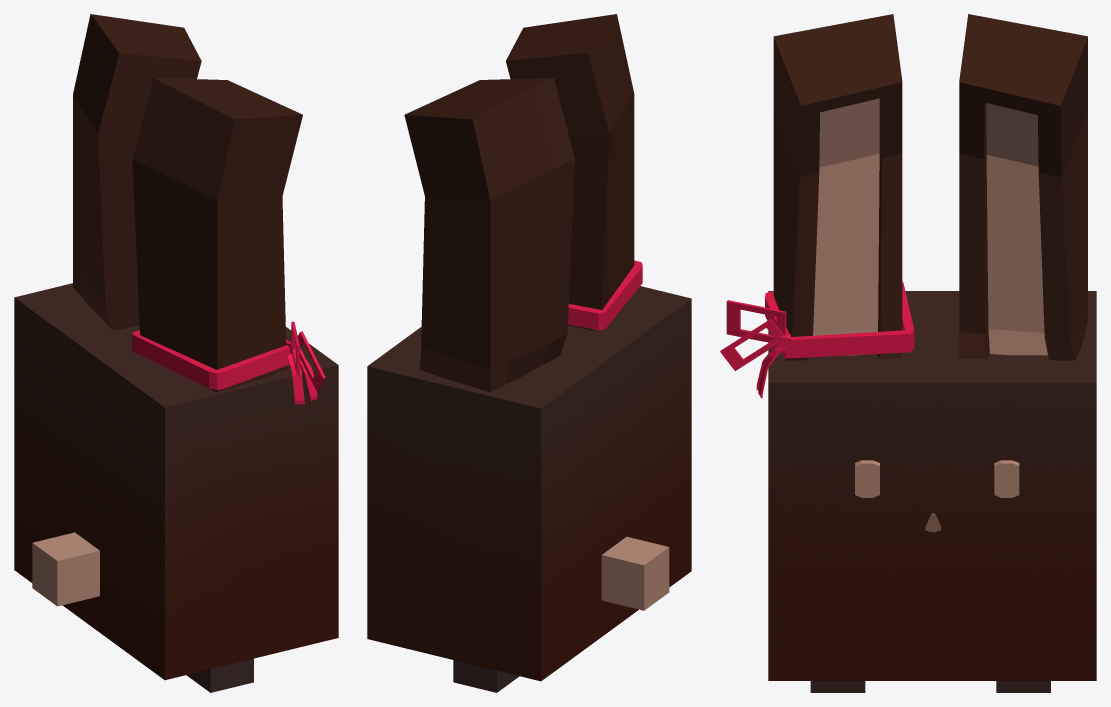
File: Assets_LapinChocolat.fbx
3 views of the same model, side by side, from view 1: azimuth 30°, elevation 25°; view 2: azimuth 150°, elevation 25°; view 3: azimuth 270°, elevation 25° (orthographic). The views are drawn at different scales.
Parts seen in each view (by area): view 1: BunnyBody, BunnyRightEar, BunnyLeftEar, Ponpon, ruban, FeetRight, noeud1; view 2: BunnyBody, BunnyLeftEar, BunnyRightEar, Ponpon, ruban, FeetLeft; view 3: BunnyBody, BunnyLeftEar, BunnyRightEar, ruban, noeud2, noeud1, EyeLeft, EyeRight, FeetRight, FeetLeft.
Boxes of the visible parts, x1,y1,x2,y2 form: BunnyBody: (14, 283, 338, 680); BunnyRightEar: (132, 78, 302, 392); BunnyLeftEar: (73, 14, 201, 330); Ponpon: (32, 532, 99, 606); ruban: (132, 330, 290, 389); FeetRight: (186, 658, 253, 692); noeud1: (298, 331, 325, 390); BunnyBody: (367, 286, 691, 681); BunnyLeftEar: (404, 78, 574, 392); BunnyRightEar: (506, 14, 634, 330); Ponpon: (601, 536, 669, 610); ruban: (568, 260, 642, 330); FeetLeft: (453, 660, 519, 692); BunnyBody: (768, 291, 1096, 680); BunnyLeftEar: (959, 14, 1087, 360); BunnyRightEar: (773, 14, 902, 360); ruban: (765, 282, 914, 358); noeud2: (726, 300, 786, 342); noeud1: (720, 319, 783, 370); EyeLeft: (994, 460, 1019, 497); EyeRight: (855, 460, 879, 497); FeetRight: (810, 681, 865, 692); FeetLeft: (996, 681, 1050, 692).
Bounding box in the file's own units: 51.16 × 130 × 68.75.
